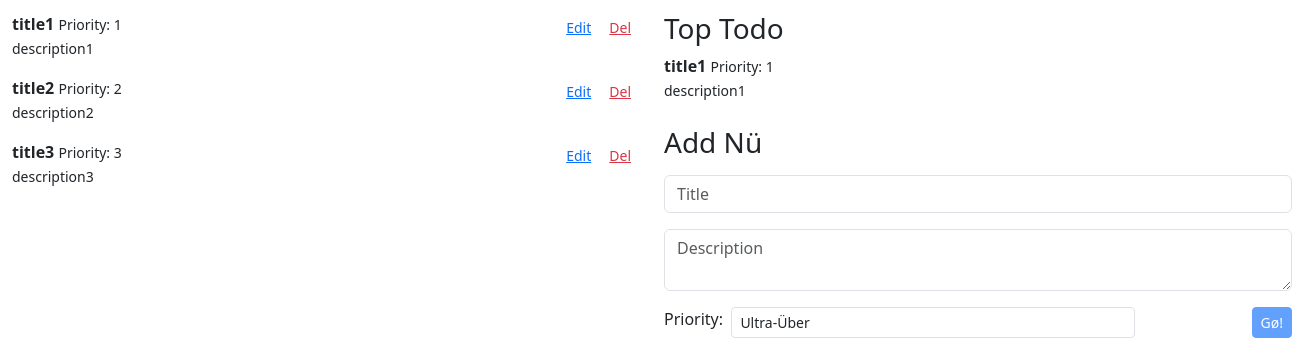
Test case: TodoApp component › removing a Todo works
The width and height of the screenshot is (1304, 355).
What coordinates should you click on to do the following:
click the 1st button with class "EditableTodo-delBtn"
I would click on:
 (620, 28)
Its box is x1=600 y1=12 x2=640 y2=43.
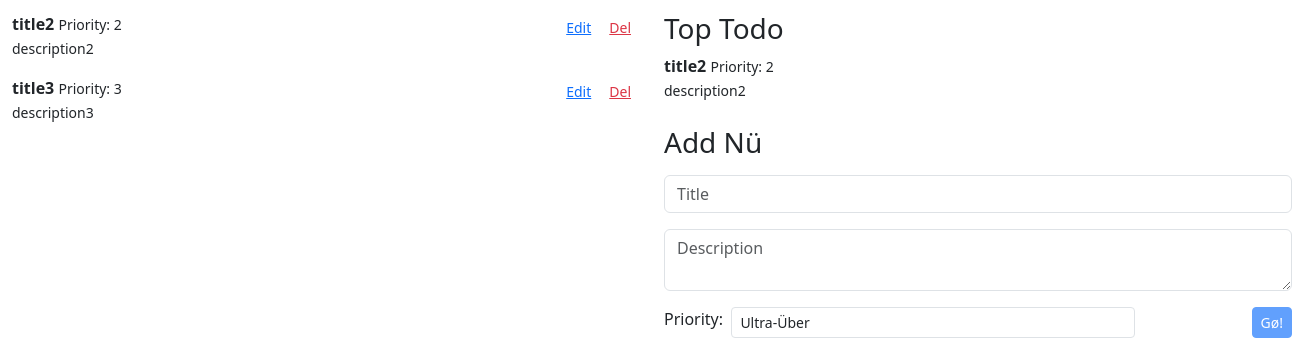
Expected: the text "description1" is gone
